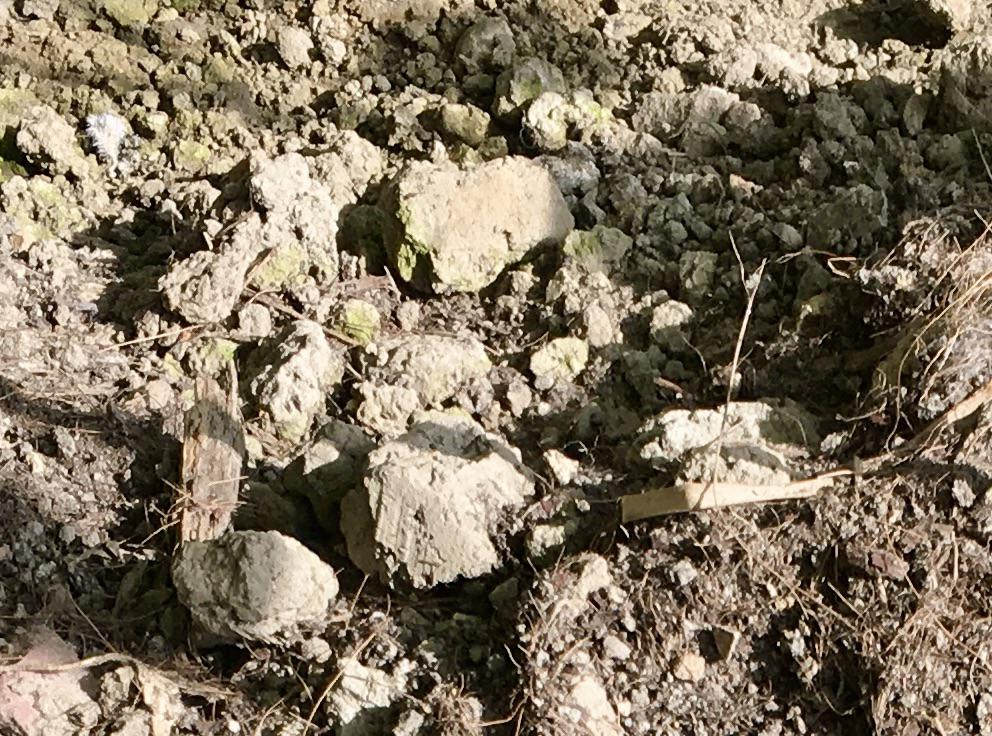block: (338, 407, 538, 587), (384, 154, 581, 289), (167, 532, 333, 643)
